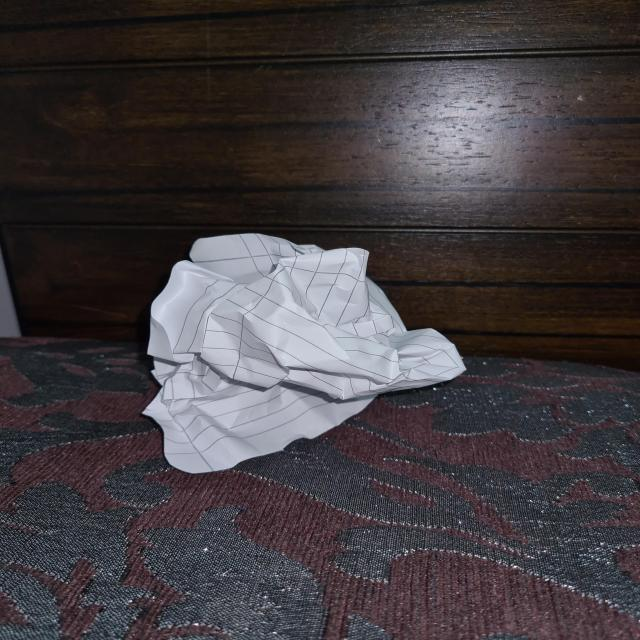paper: (142, 235, 476, 477)
